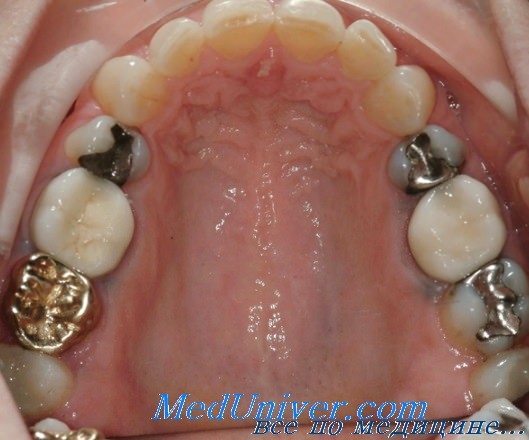UL1BC_decay: (384, 126, 457, 193)
UL1M_decay: (440, 257, 528, 355)
UL2BC_healthy: (406, 176, 504, 281)
ULCI_healthy: (278, 3, 343, 68)
ULC_healthy: (363, 65, 428, 134)
ULLI_healthy: (341, 27, 393, 79)
UR1BC_decay: (67, 117, 155, 185)
UR1M_decay: (8, 255, 105, 355)
UR2BC_healthy: (41, 169, 140, 279)
URCI_healthy: (205, 1, 276, 62)
URC_healthy: (97, 58, 175, 124)
URLI_healthy: (146, 23, 205, 80)
